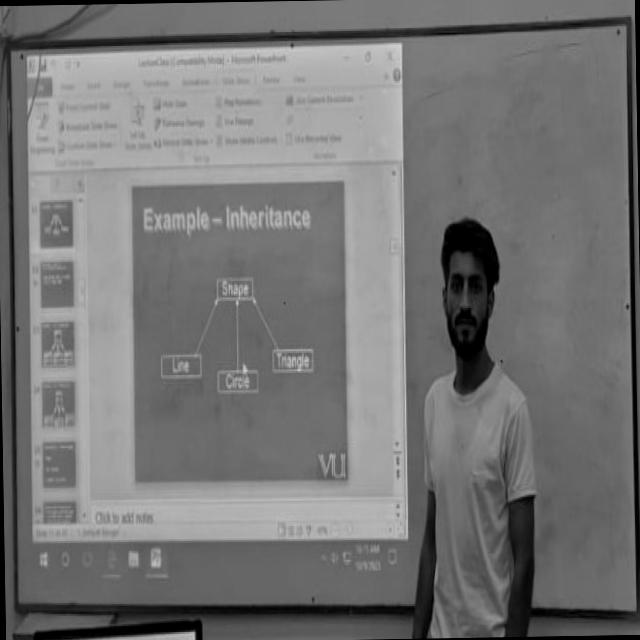Instructor: (418, 215, 540, 628)
Slide: (25, 44, 410, 576)
White-board: (8, 18, 638, 613)
